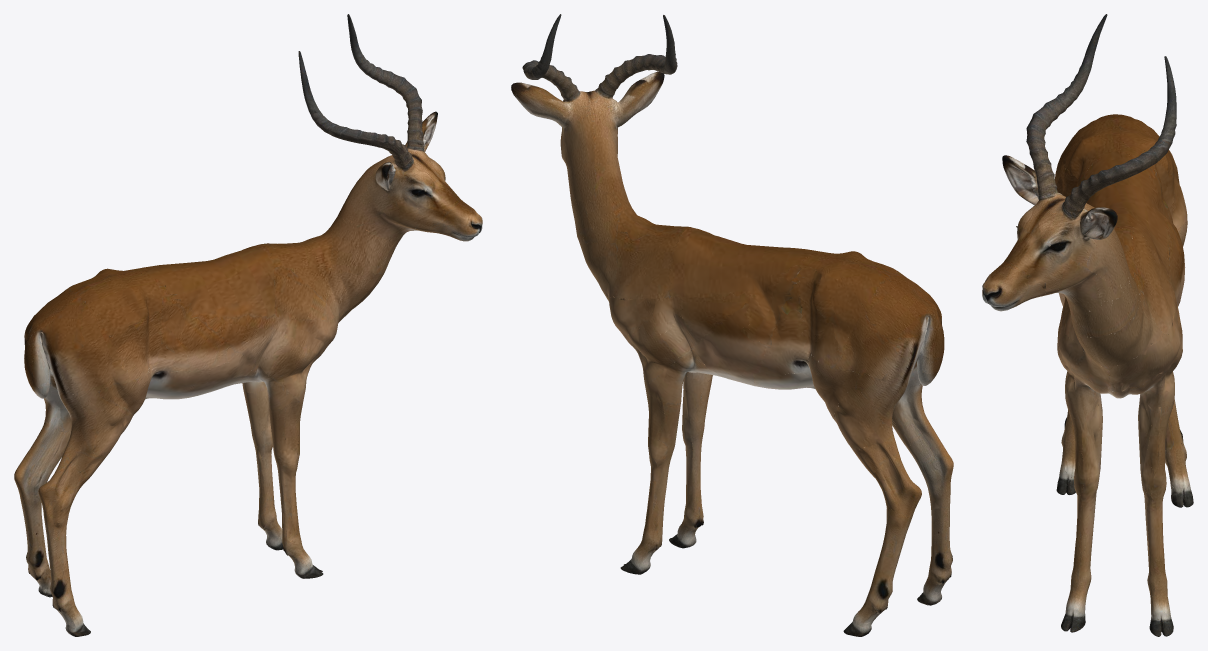
Rendered from antelope.glb.
3 renders of one model, left to right at view 1: azimuth 30°, elevation 25°; view 2: azimuth 150°, elevation 25°; view 3: azimuth 270°, elevation 25°, orthographic. The views are drawn at different scales.
Visible parts, largest first — view 1: Mesh_0; view 2: Mesh_0; view 3: Mesh_0.
Part boxes in pixels (x1,y1,x2,y2): Mesh_0: [14, 14, 482, 636]; Mesh_0: [511, 14, 953, 636]; Mesh_0: [982, 14, 1193, 636].
Bounding box in the file's own units: 1.3 × 1.55 × 0.4828.
Materials: 1 (1 with a texture image).
